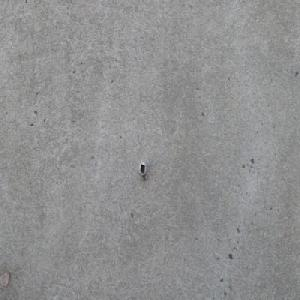MetalPart: (138, 161, 148, 182)
